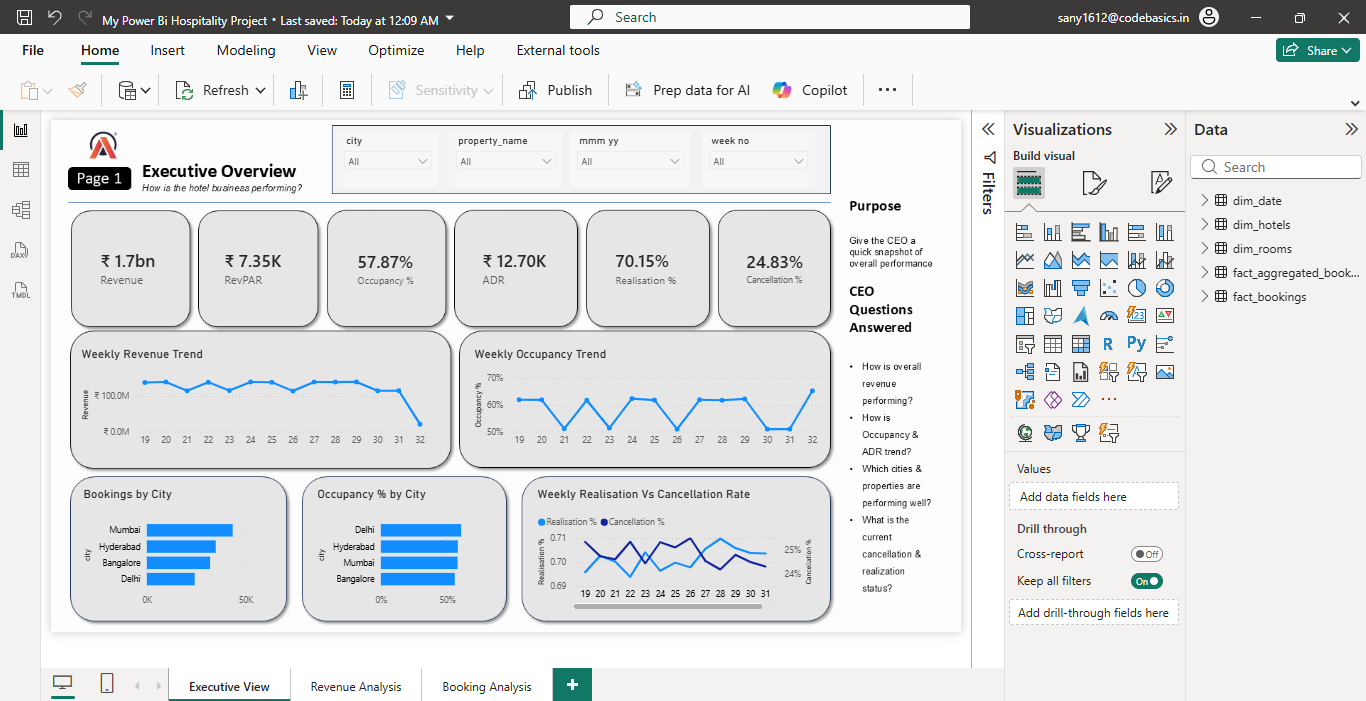

The page's visual inventory and layout, read from the dashboard file:
{"tool":"powerbi","page":{"name":"Executive View","canvas":[1280,720],"ordinal":0},"visuals":[{"type":"slicer","fields":{"Values":["dim_hotels.city"]},"box":[402.3,15.5,143.5,78.8],"z":0},{"type":"slicer","fields":{"Values":["dim_hotels.property_name"]},"box":[559.8,15.5,160.4,78.8],"z":1000},{"type":"slicer","fields":{"Values":["dim_date.mmm yy"]},"box":[730,15.5,170.2,78.8],"z":2000},{"type":"slicer","fields":{"Values":["dim_date.week no"]},"box":[915.7,15.5,158.9,78.8],"z":3000},{"type":"cardVisual","fields":{"Data":["fact_bookings.Revenue"]},"box":[40.8,142.1,143.5,130.8],"z":4000},{"type":"cardVisual","fields":{"Data":["fact_bookings.ADR"]},"box":[578.1,142.1,151.9,130.8],"z":5000},{"type":"cardVisual","fields":{"Data":["fact_aggregated_bookings.Occupancy %"]},"box":[402.3,142.1,143.5,130.8],"z":6000},{"type":"cardVisual","fields":{"Data":["fact_aggregated_bookings.RevPAR"]},"box":[215.2,142.1,154.7,130.8],"z":7000},{"type":"cardVisual","fields":{"Data":["fact_bookings.Realisation %"]},"box":[765.2,142.1,150.5,130.8],"z":8000},{"type":"cardVisual","fields":{"Data":["fact_bookings.Cancellation %"]},"box":[949.5,142.1,139.3,130.8],"z":9000},{"type":"barChart","title":"Bookings by City","fields":{"Category":["dim_hotels.city"],"Y":["fact_bookings.Total Bookings"]},"box":[40.8,516.2,275.7,177.2],"z":10000},{"type":"barChart","title":"Occupancy % by City","fields":{"Category":["dim_hotels.city"],"Y":["fact_aggregated_bookings.Occupancy %"]},"box":[369.9,516.2,260.2,177.2],"z":11000},{"type":"lineChart","title":"Weekly Revenue Trend","fields":{"Category":["dim_date.week no"],"Y":["fact_bookings.Revenue"]},"box":[38,319.3,497.9,149.1],"z":12000},{"type":"lineChart","title":"Weekly Occupancy Trend","fields":{"Category":["dim_date.week no"],"Y":["fact_aggregated_bookings.Occupancy %"]},"box":[590.8,319.3,497.9,149.1],"z":13000},{"type":"lineChart","title":"Weekly Realisation Vs Cancellation Rate","fields":{"Category":["dim_date.week no"],"Y":["fact_bookings.Realisation %"],"Y2":["fact_bookings.Cancellation %"]},"box":[678.8,516.4,396.4,177],"z":14000},{"type":"image","box":[9.8,15.5,128,39.4],"z":15000}]}

Visuals, with their boxes on the page's 1280x720 design canvas (x1, y1, x2, y2). These are canvas units, not pixel positions in the 1366x701 screenshot, which may show the page scaled, cropped or inside an application window:
slicer - dim_hotels.city: crop(402, 16, 546, 94)
slicer - dim_hotels.property_name: crop(560, 16, 720, 94)
slicer - dim_date.mmm yy: crop(730, 16, 900, 94)
slicer - dim_date.week no: crop(916, 16, 1075, 94)
cardVisual - fact_bookings.Revenue: crop(41, 142, 184, 273)
cardVisual - fact_bookings.ADR: crop(578, 142, 730, 273)
cardVisual - fact_aggregated_bookings.Occupancy %: crop(402, 142, 546, 273)
cardVisual - fact_aggregated_bookings.RevPAR: crop(215, 142, 370, 273)
cardVisual - fact_bookings.Realisation %: crop(765, 142, 916, 273)
cardVisual - fact_bookings.Cancellation %: crop(950, 142, 1089, 273)
"Bookings by City" barChart: crop(41, 516, 316, 693)
"Occupancy % by City" barChart: crop(370, 516, 630, 693)
"Weekly Revenue Trend" lineChart: crop(38, 319, 536, 468)
"Weekly Occupancy Trend" lineChart: crop(591, 319, 1089, 468)
"Weekly Realisation Vs Cancellation Rate" lineChart: crop(679, 516, 1075, 693)
image: crop(10, 16, 138, 55)
